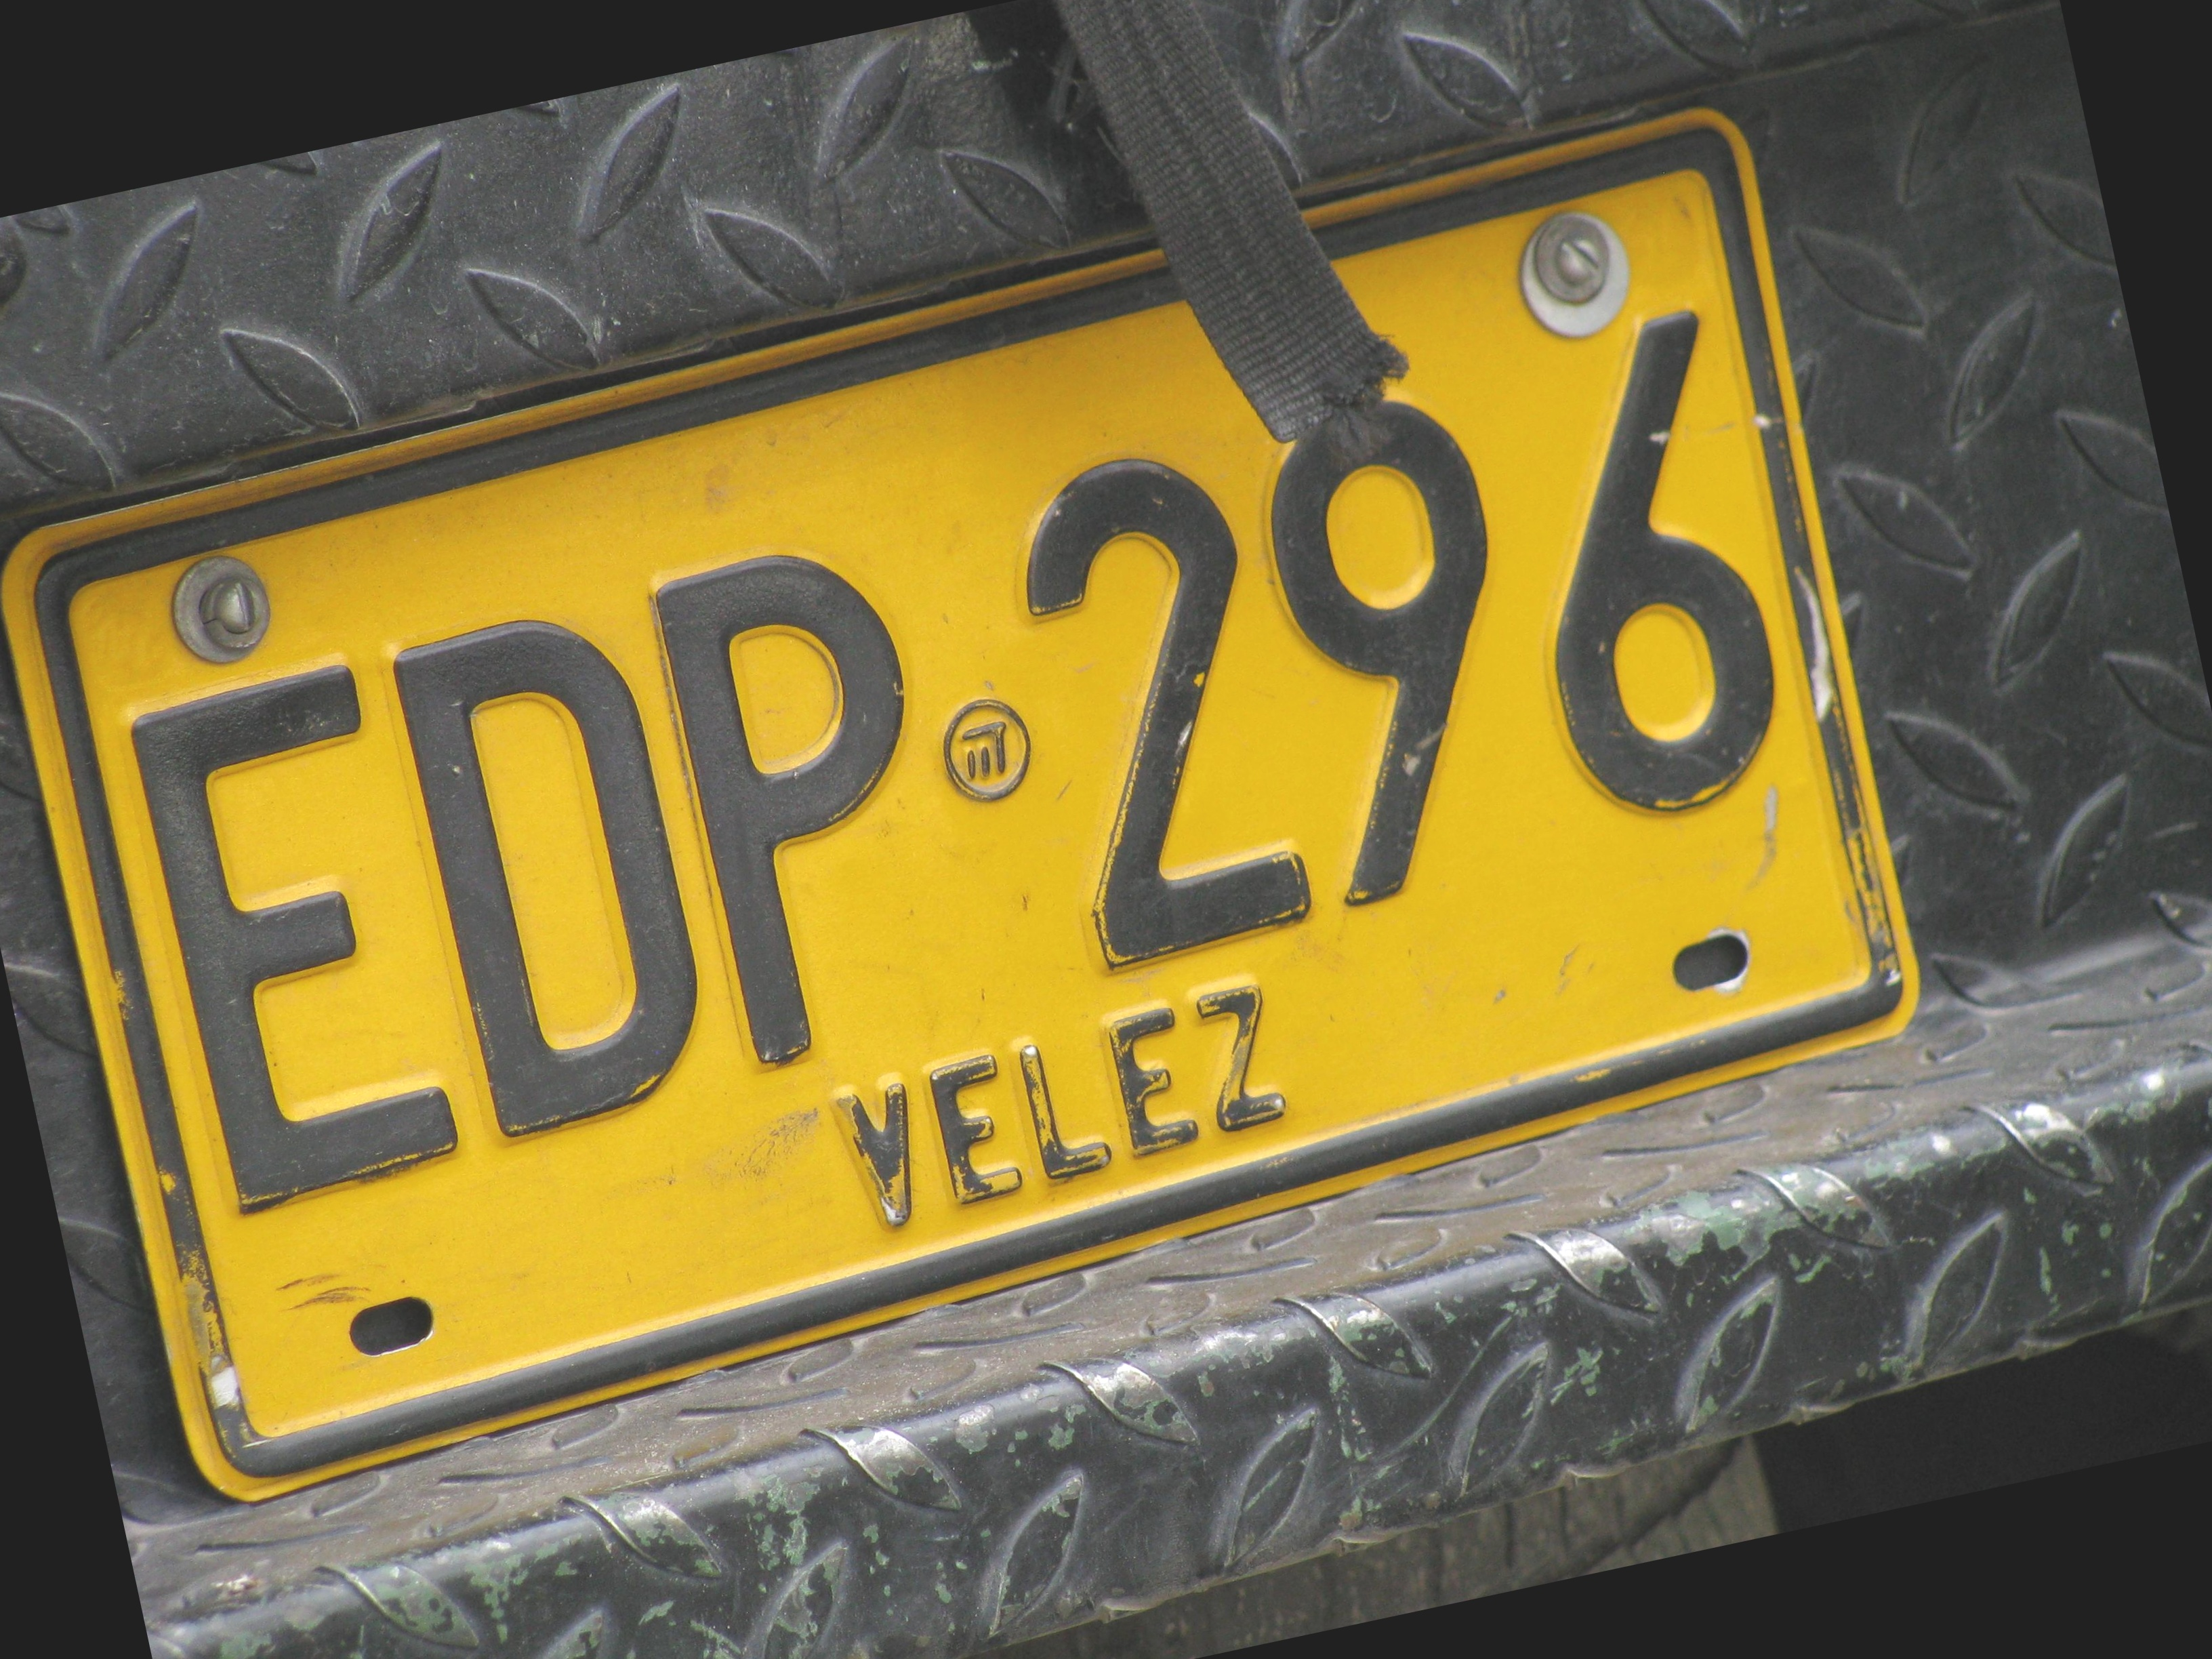placas: (0, 41, 2000, 1546)
